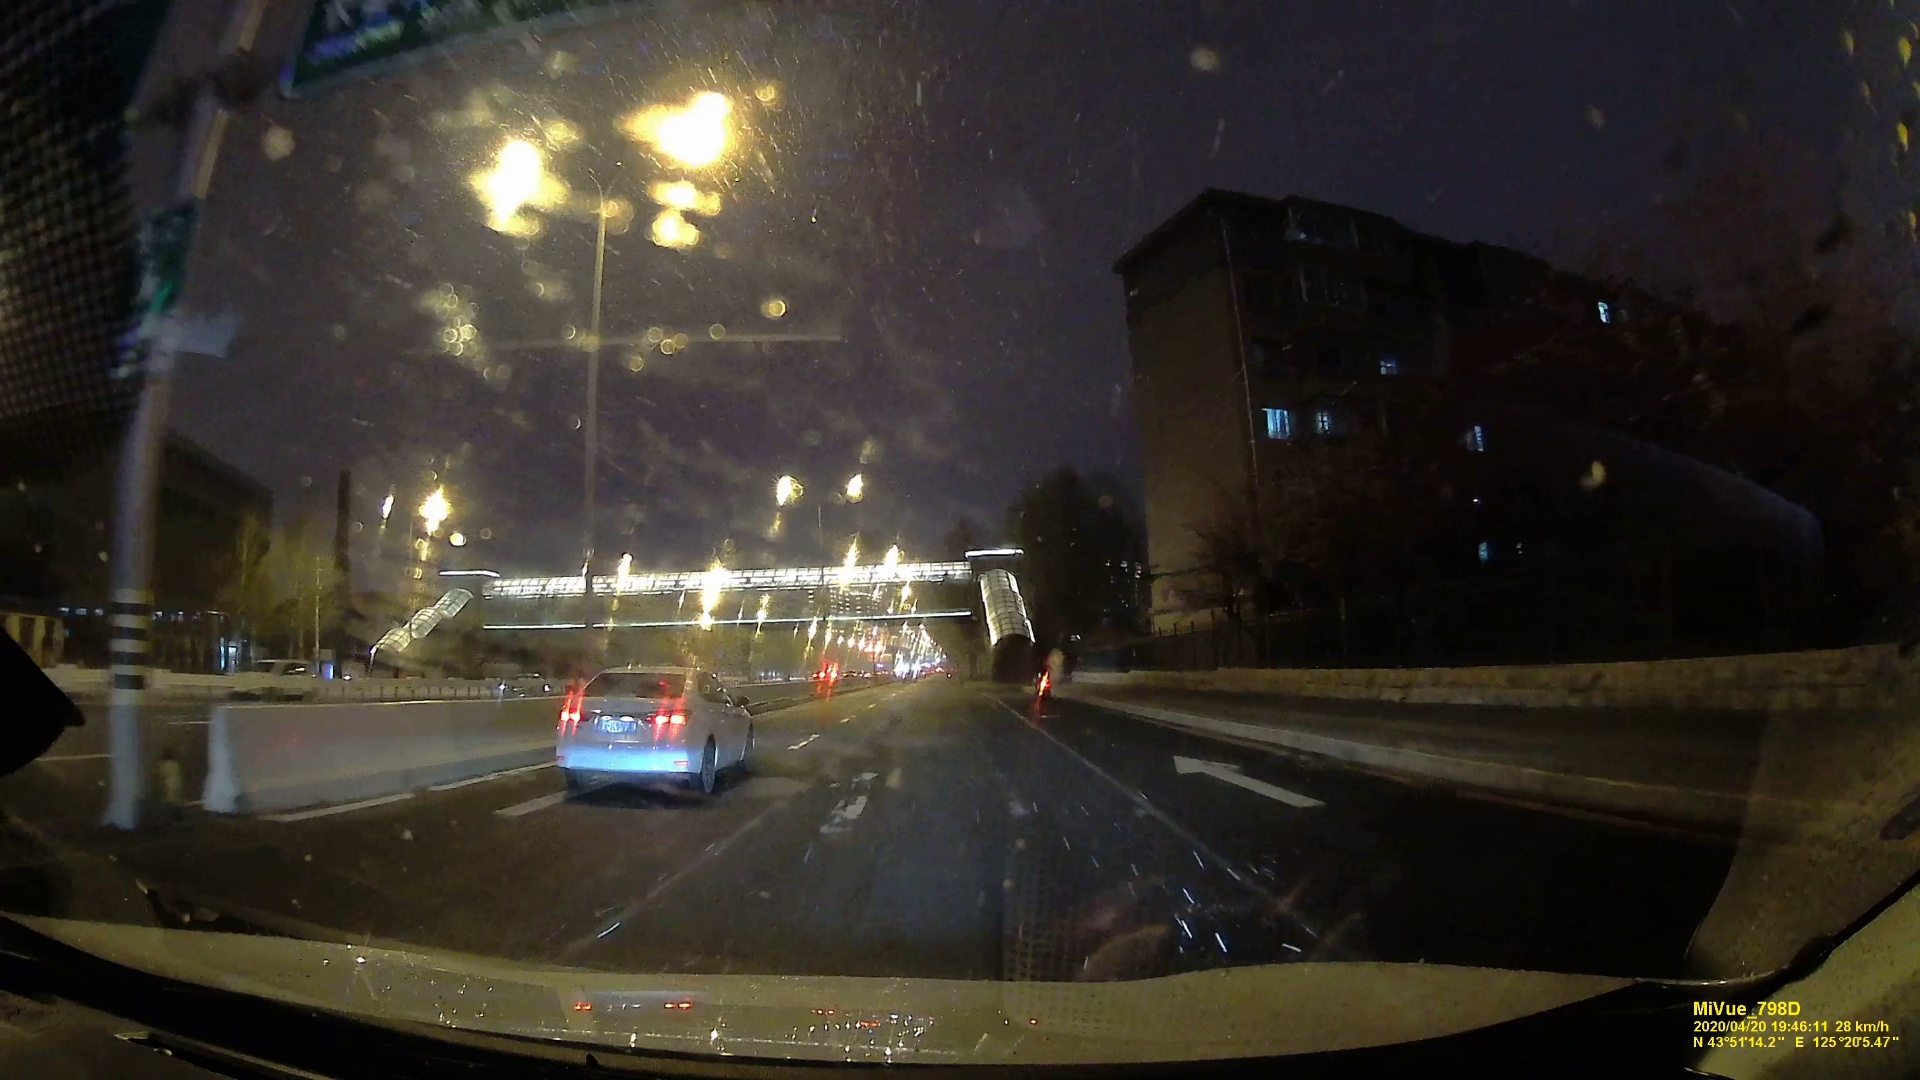vehicle: (553, 659, 761, 806), (232, 655, 318, 705), (811, 669, 836, 683)
